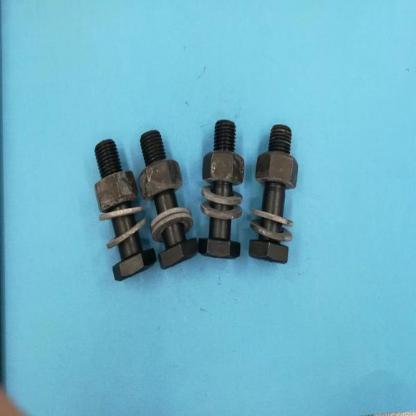FOD: (247, 122, 306, 267), (256, 150, 298, 190), (249, 218, 295, 243)
